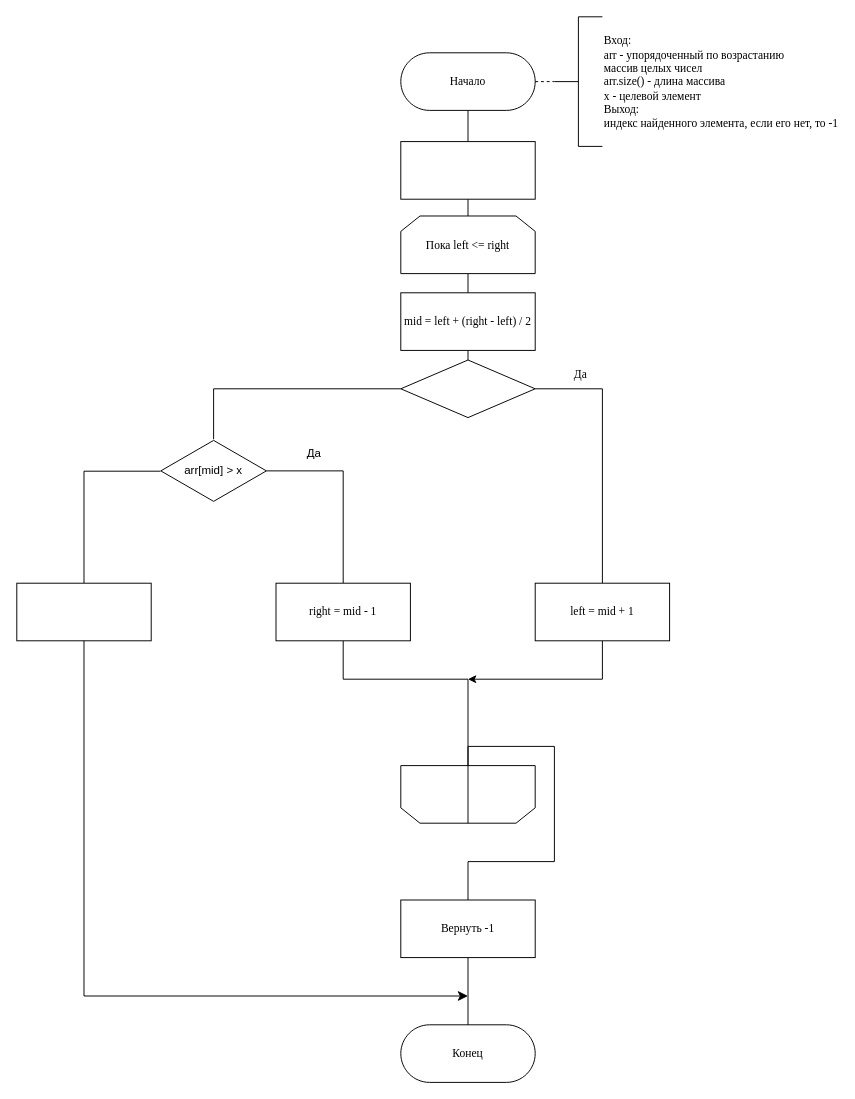
Some shapes in this 855 by 1099 pixel diagram are drawn without their labels. The centre of each missing label's shape, as x and y in pixels:
arr[mid] < x: [467,388]
left = 0, right = static_cast<int>(arr.size())-1: [467,170]
Вернуть mid: [83,611]
Конец пока: [467,794]
